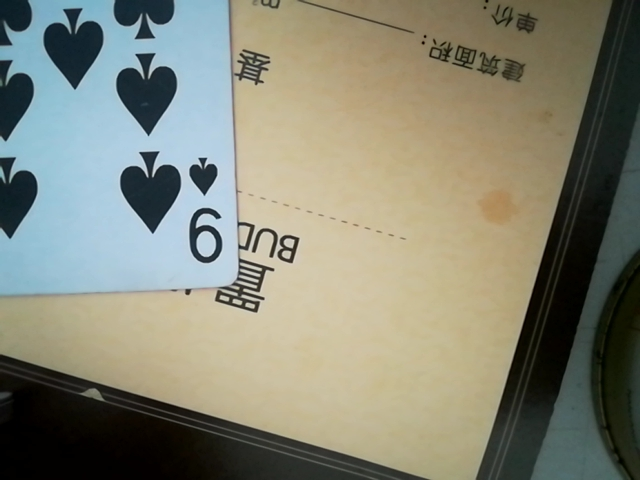ht 9: (0, 3, 240, 302)
